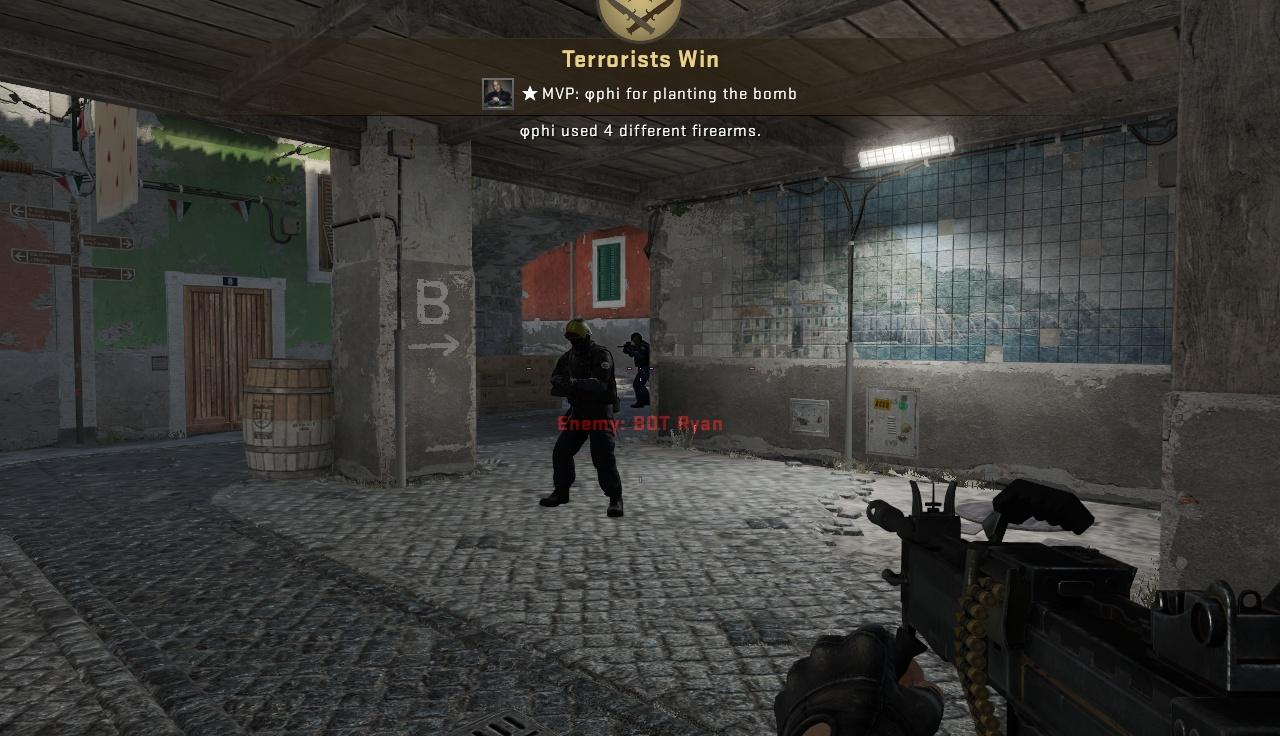ct: (556, 317, 618, 509), (628, 331, 650, 406)
cthead: (565, 319, 591, 348), (630, 333, 642, 344)
rifle: (855, 475, 1280, 736)
